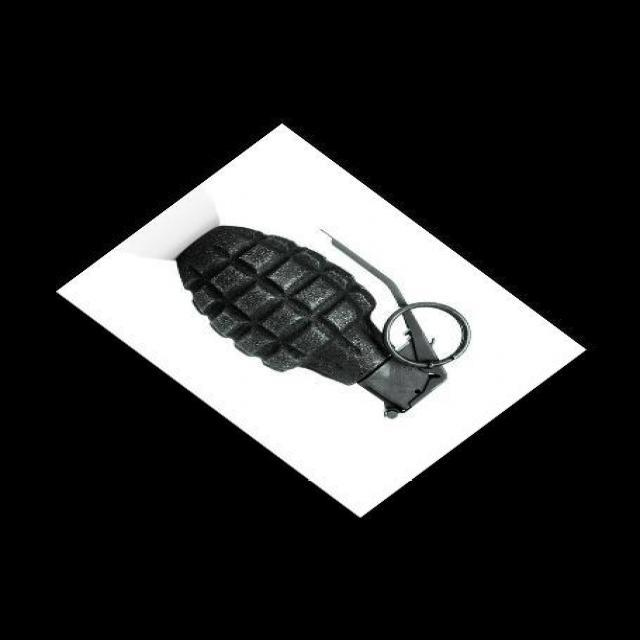Grenade: (175, 224, 470, 417)
